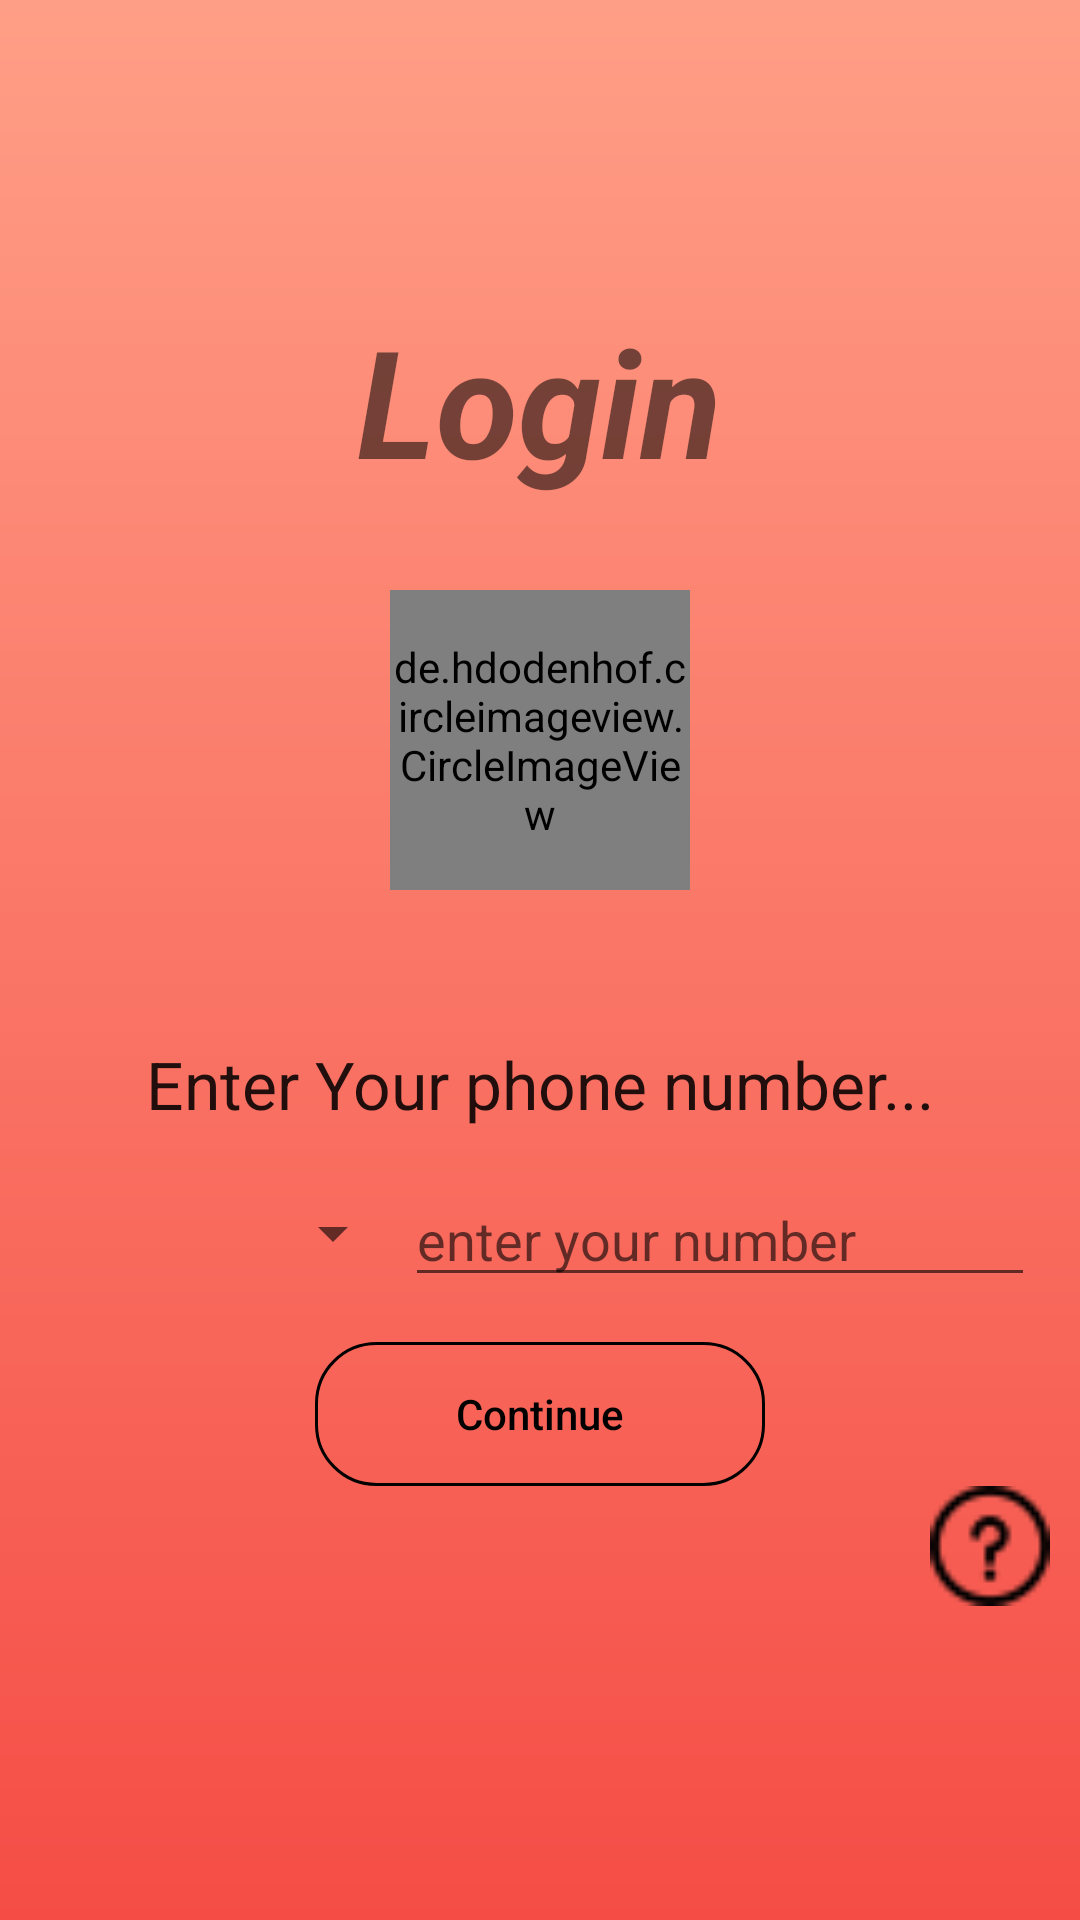

Screen size 1080*1920. Icon name, then its box in pixels as (left=x1, top=y1, right=x2, bottom=y2):
help: (left=930, top=1486, right=1050, bottom=1606)
